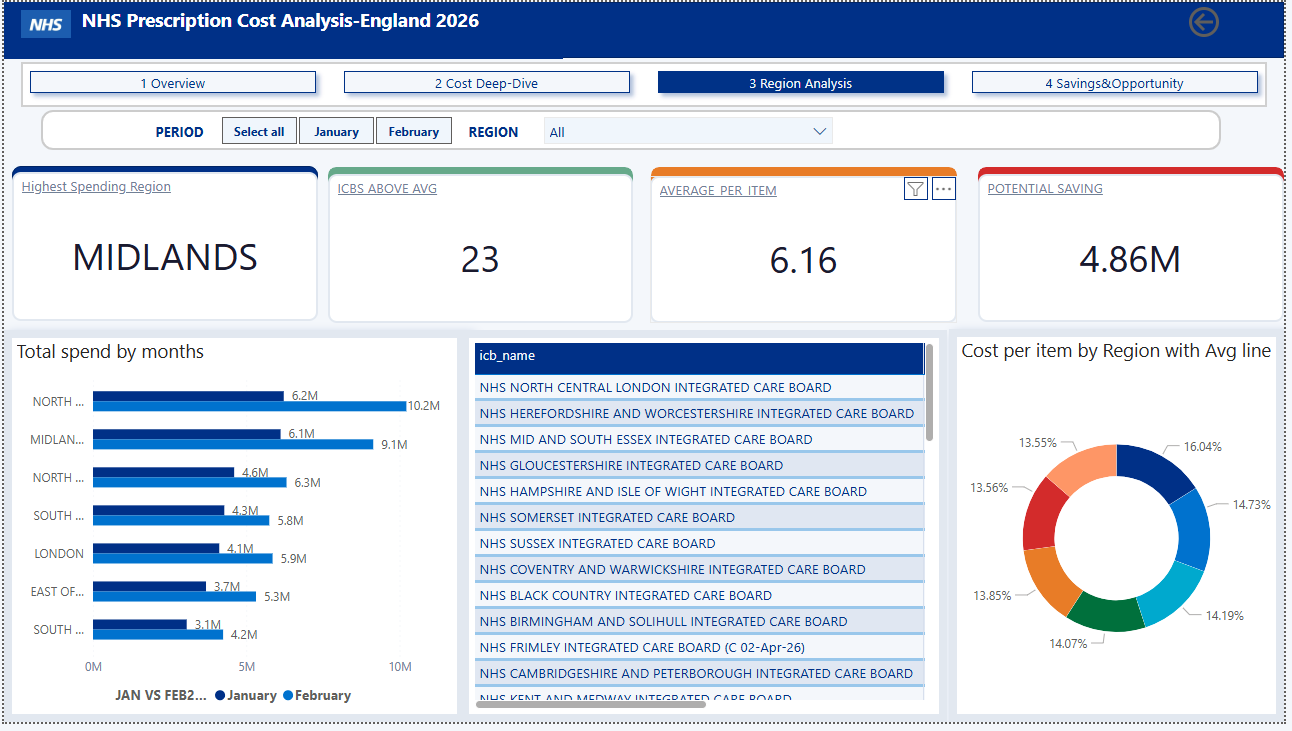

This screenshot's page, from the dashboard's own definition file:
{"tool":"powerbi","page":{"name":"3 Region Analysis","canvas":[1280,720],"ordinal":2},"visuals":[{"type":"shape","title":"NHS Prescription Cost Analysis-England 2026","box":[0,0,1279.7,56.4],"z":0},{"type":"textbox","box":[0,0,559.2,56.7],"z":1000},{"type":"image","box":[17,6.5,50,30],"z":2000},{"type":"shape","box":[8.2,164.2,305.9,43.9],"z":3000},{"type":"card","title":"Highest Spending Region","fields":{"Values":["fact_table.top_region"]},"box":[8,170,306,149],"z":4000},{"type":"shape","box":[324,164.6,305.2,28.1],"z":6000},{"type":"cardVisual","fields":{"Data":["Measures Table.MoM Change %"]},"box":[50,343.8,147.9,56.2],"z":7000},{"type":"card","title":"ICBS ABOVE AVG","fields":{"Values":["fact_table.ICBS ABOVE AVG"]},"box":[324,171.9,305.2,149],"z":8000},{"type":"shape","box":[647.4,165,305.5,43.2],"z":10000},{"type":"card","title":"AVERAGE_PER_ITEM","fields":{"Values":["Measures Table.National Avg Per Item"]},"box":[646.4,173.9,306.5,147.4],"z":11000},{"type":"shape","box":[974.1,165,305.9,41.4],"z":12000},{"type":"card","title":"POTENTIAL SAVING","fields":{"Values":["Measures Table.Total NIC"]},"box":[974,172.1,305.8,148.1],"z":13000},{"type":"clusteredBarChart","title":"Total spend by months","fields":{"Category":["dim_location.region_name"],"Y":["Sum(fact_table.items)"],"Series":["dim_date.year_month.Variation.Date Hierarchy.Month"]},"box":[0,328.1,461.5,391.7],"z":14000},{"type":"donutChart","title":"Cost per item by Region with Avg line","fields":{"Category":["dim_location.region_name"],"Y":["Measures Table.avg_cost_per_item"]},"box":[945.1,327,334.4,392.6],"z":15000},{"type":"tableEx","fields":{"Values":["dim_location.icb_name","dim_location.region_name","fact_table.ICBs Above Avg","Measures Table.vs National Avg"]},"box":[457.4,327.7,485.1,392.6],"z":16000},{"type":"shape","box":[17,60,1246,45],"z":17000},{"type":"textbox","box":[59.6,116.2,33.3,16.2],"z":20000},{"type":"shape","box":[37.3,108.2,1180,40],"z":30000},{"type":"slicer","fields":{"Values":["dim_date.months"]},"box":[191.6,108.4,280.3,40.3],"z":31000},{"type":"actionButton","box":[1180,0,100,40],"z":32000},{"type":"textbox","box":[146.8,116,67,47.9],"z":33000},{"type":"textbox","box":[460.3,115.5,108.4,33.1],"z":34000},{"type":"slicer","fields":{"Values":["dim_location.region_name"]},"box":[529.9,105.2,309.3,43.3],"z":35000},{"type":"pageNavigator","box":[17.1,60,1245.7,40],"z":41001}]}

Visuals, with their boxes in screenshot pixels (x1, y1, x2, y2), scaled from the page's 1280x720 canvas onto the 1292x731 screenshot:
"NHS Prescription Cost Analysis-England 2026" shape: bbox=[0, 0, 1291, 57]
textbox: bbox=[0, 0, 564, 58]
image: bbox=[17, 7, 68, 37]
shape: bbox=[8, 167, 317, 211]
"Highest Spending Region" card: bbox=[8, 173, 317, 324]
shape: bbox=[327, 167, 635, 196]
cardVisual - Measures Table.MoM Change %: bbox=[50, 349, 200, 406]
"ICBS ABOVE AVG" card: bbox=[327, 175, 635, 326]
shape: bbox=[653, 168, 962, 211]
"AVERAGE_PER_ITEM" card: bbox=[652, 177, 962, 326]
shape: bbox=[983, 168, 1291, 210]
"POTENTIAL SAVING" card: bbox=[983, 175, 1291, 325]
"Total spend by months" clusteredBarChart: bbox=[0, 333, 466, 730]
"Cost per item by Region with Avg line" donutChart: bbox=[954, 332, 1291, 730]
tableEx - dim_location.icb_name x dim_location.region_name: bbox=[462, 333, 951, 730]
shape: bbox=[17, 61, 1275, 107]
textbox: bbox=[60, 118, 94, 134]
shape: bbox=[38, 110, 1229, 150]
slicer - dim_date.months: bbox=[193, 110, 476, 151]
actionButton: bbox=[1191, 0, 1291, 41]
textbox: bbox=[148, 118, 216, 166]
textbox: bbox=[465, 117, 574, 151]
slicer - dim_location.region_name: bbox=[535, 107, 847, 151]
pageNavigator: bbox=[17, 61, 1275, 102]
